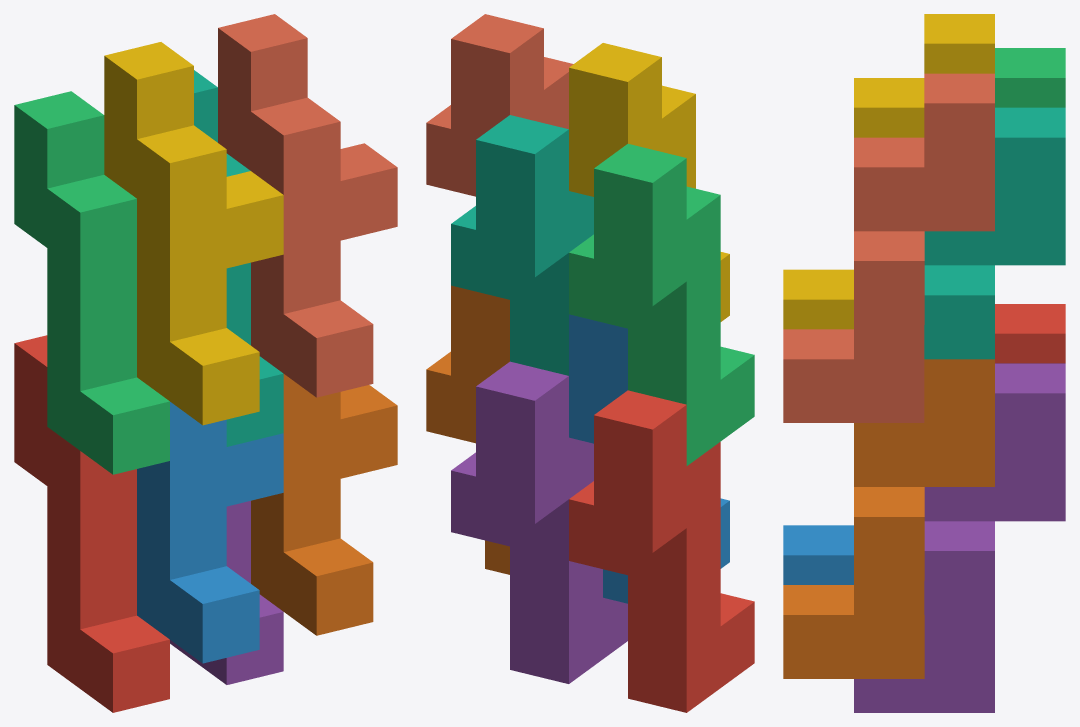
File: tiling.obj
3 views of the same model, side by side, from view 1: azimuth 30°, elevation 25°; view 2: azimuth 150°, elevation 25°; view 3: azimuth 270°, elevation 25° (orthographic). The views are drawn at different scales.
Visible parts, largest first — view 1: copy_1_domain_4, copy_1_domain_8, copy_1_domain_3, copy_1_domain_1, copy_1_domain_2, copy_1_domain_6, copy_1_domain_7, copy_1_domain_5; view 2: copy_1_domain_1, copy_1_domain_3, copy_1_domain_5, copy_1_domain_7, copy_1_domain_8, copy_1_domain_4, copy_1_domain_6, copy_1_domain_2; view 3: copy_1_domain_8, copy_1_domain_6, copy_1_domain_5, copy_1_domain_7, copy_1_domain_4, copy_1_domain_1, copy_1_domain_2, copy_1_domain_3.
Part boxes in pixels (bbox=[...]): copy_1_domain_4: bbox=[104, 42, 283, 425]; copy_1_domain_8: bbox=[218, 14, 397, 397]; copy_1_domain_3: bbox=[14, 91, 169, 474]; copy_1_domain_1: bbox=[14, 335, 169, 712]; copy_1_domain_2: bbox=[137, 402, 283, 663]; copy_1_domain_6: bbox=[251, 374, 397, 635]; copy_1_domain_7: bbox=[194, 70, 283, 446]; copy_1_domain_5: bbox=[170, 501, 283, 684]; copy_1_domain_1: bbox=[569, 390, 754, 712]; copy_1_domain_3: bbox=[569, 144, 754, 465]; copy_1_domain_5: bbox=[451, 361, 627, 683]; copy_1_domain_7: bbox=[451, 115, 593, 375]; copy_1_domain_8: bbox=[426, 14, 573, 196]; copy_1_domain_4: bbox=[569, 43, 729, 321]; copy_1_domain_6: bbox=[426, 285, 509, 574]; copy_1_domain_2: bbox=[569, 314, 729, 603]; copy_1_domain_8: bbox=[783, 73, 994, 422]; copy_1_domain_6: bbox=[783, 359, 994, 678]; copy_1_domain_5: bbox=[854, 363, 1065, 712]; copy_1_domain_7: bbox=[924, 107, 1065, 359]; copy_1_domain_4: bbox=[783, 14, 994, 329]; copy_1_domain_1: bbox=[995, 304, 1065, 363]; copy_1_domain_2: bbox=[783, 525, 853, 584]; copy_1_domain_3: bbox=[995, 48, 1065, 107].
Size of the model in its own units: 5 by 10 by 4.
